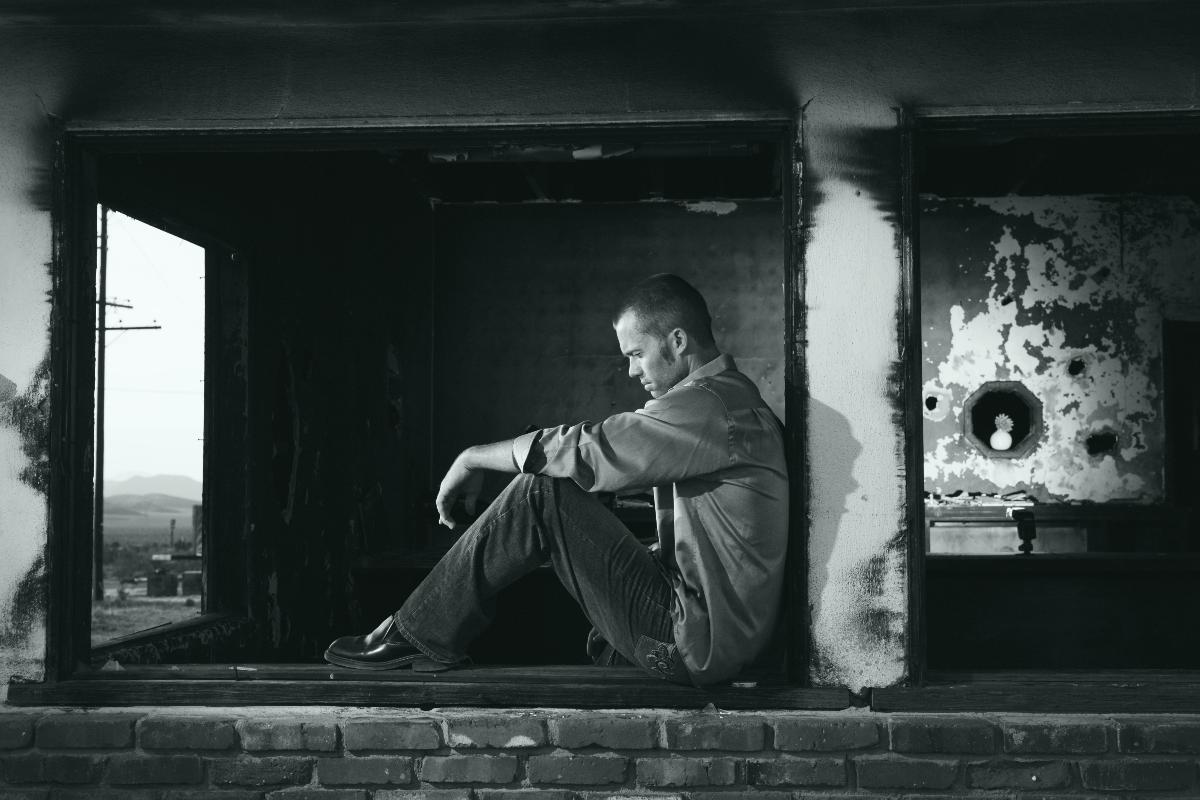Person: (323, 267, 798, 678)
